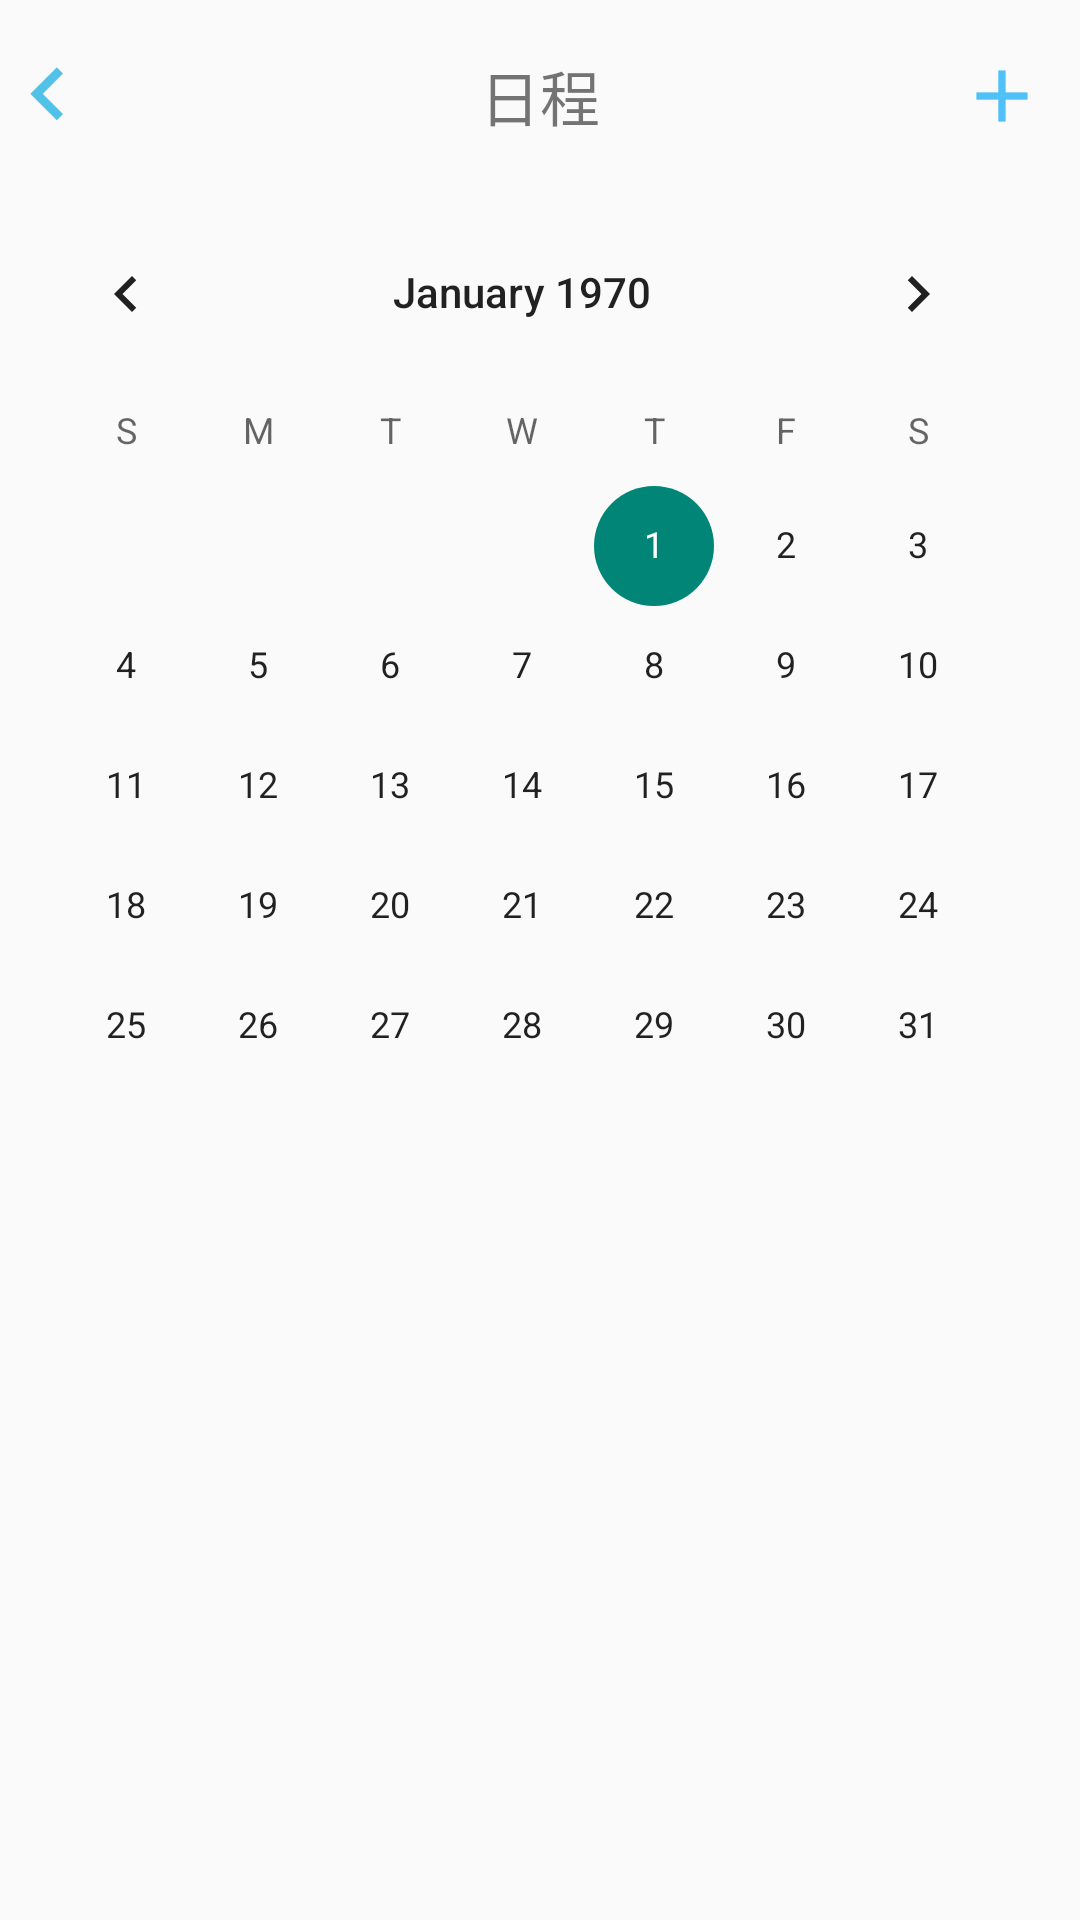

Where icons sit on this 1080w x 1920h app screen, as Rect(x1, y1, x2, y2):
add: Rect(976, 70, 1028, 122)
left: Rect(30, 67, 63, 120)
